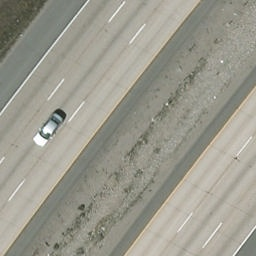car: (33, 111, 63, 148)
